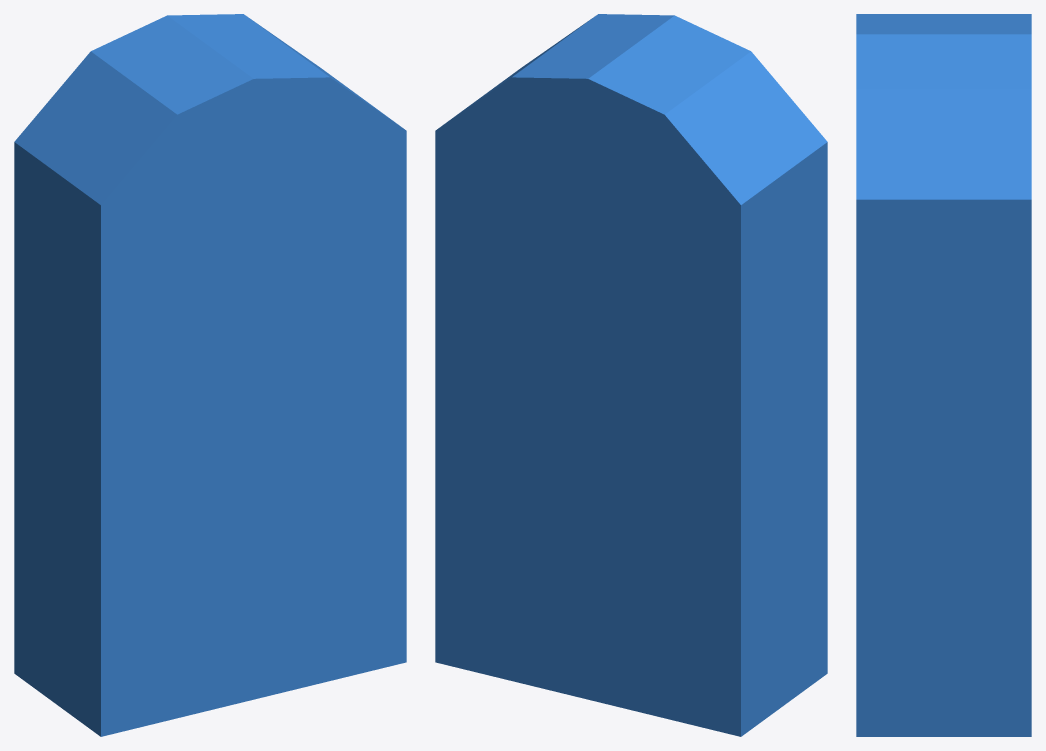
File: Collision_Window_Thin_Round2.fbx
3 renders of one model, left to right at view 1: azimuth 30°, elevation 25°; view 2: azimuth 150°, elevation 25°; view 3: azimuth 270°, elevation 25°, orthographic.
Parts seen in each view (by area): view 1: UCX_Window_Thin_Round2_1; view 2: UCX_Window_Thin_Round2_1; view 3: UCX_Window_Thin_Round2_1.
Part boxes in pixels (x1,y1,x2,y2): UCX_Window_Thin_Round2_1: [14, 14, 406, 736]; UCX_Window_Thin_Round2_1: [435, 14, 827, 736]; UCX_Window_Thin_Round2_1: [856, 14, 1031, 736].
Size of the model in its own units: 84.01 by 163 by 41.23.
